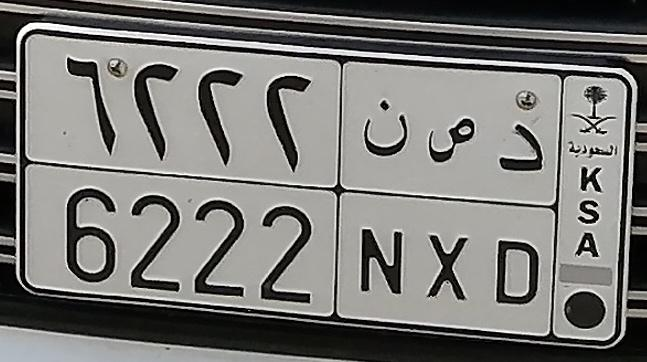2: (125, 57, 191, 294), (257, 73, 319, 305), (189, 67, 250, 297)
6: (59, 54, 121, 283)
D: (487, 120, 555, 308)
N: (355, 93, 410, 301)
X: (420, 108, 484, 304)
